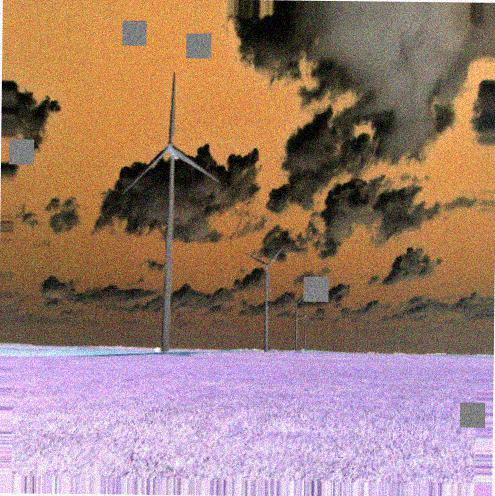wind turbine: (123, 72, 221, 348), (246, 244, 286, 351)
